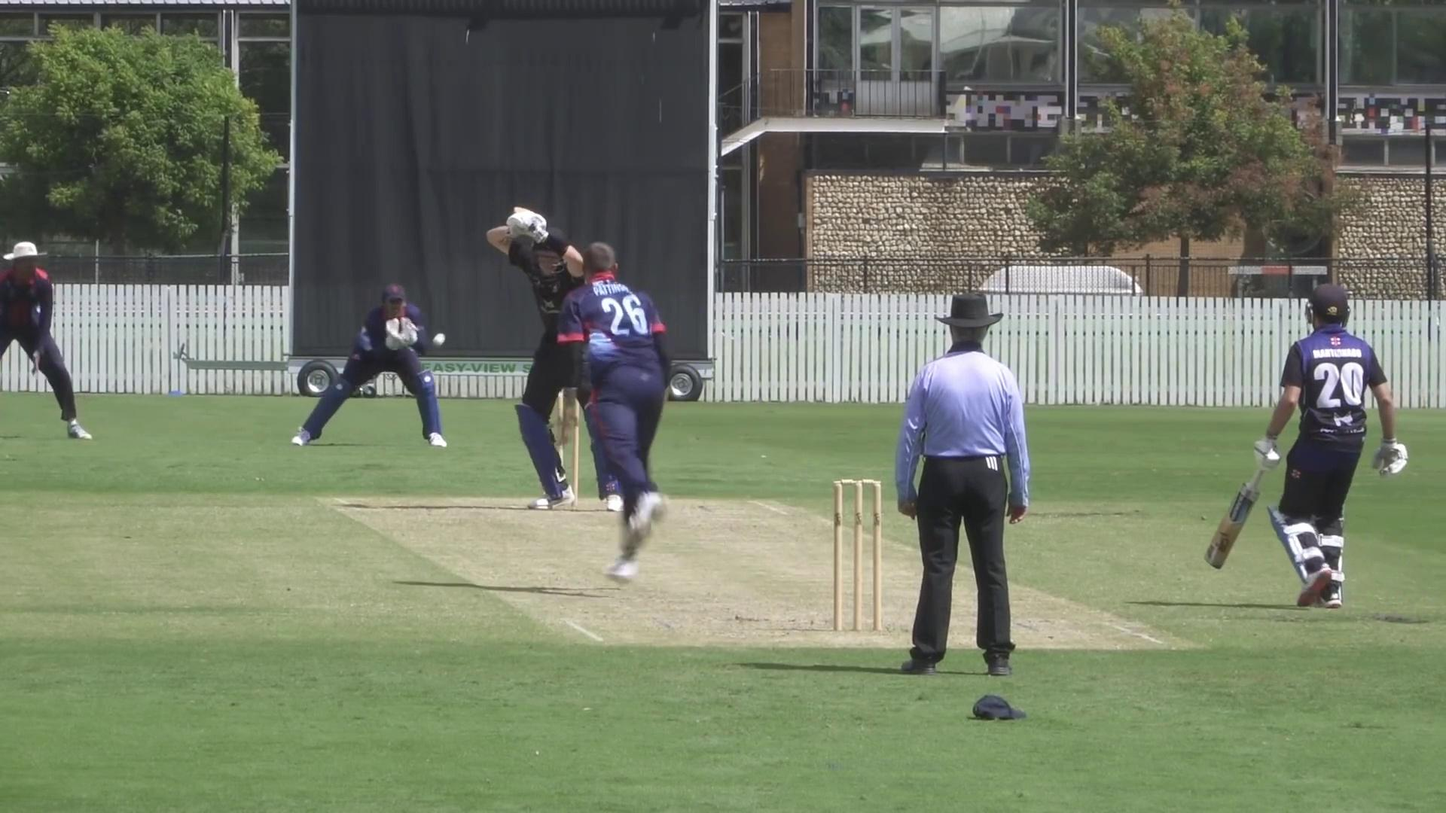ball: (430, 331, 449, 348)
